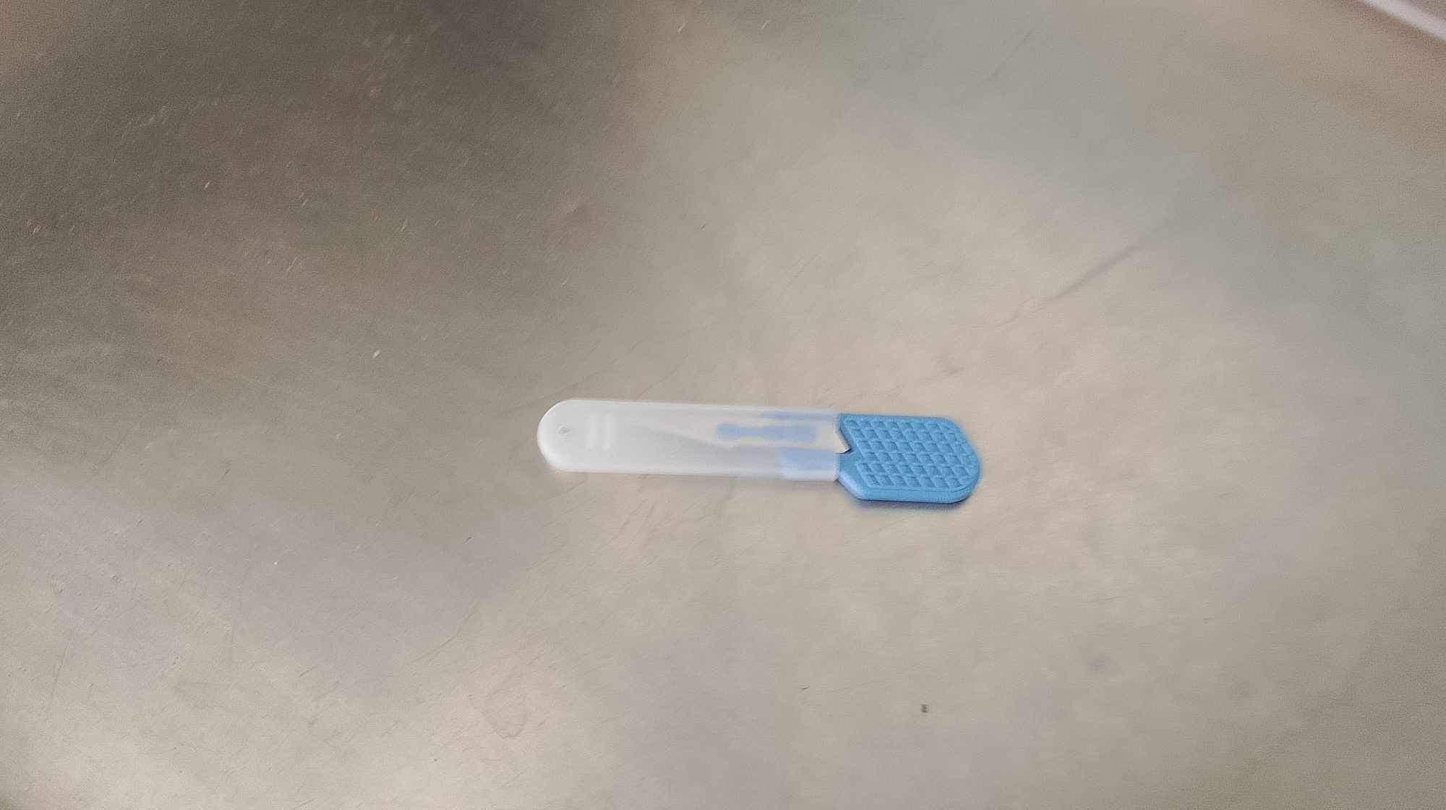General: (834, 411, 982, 508)
Sharps: (535, 394, 981, 506)
